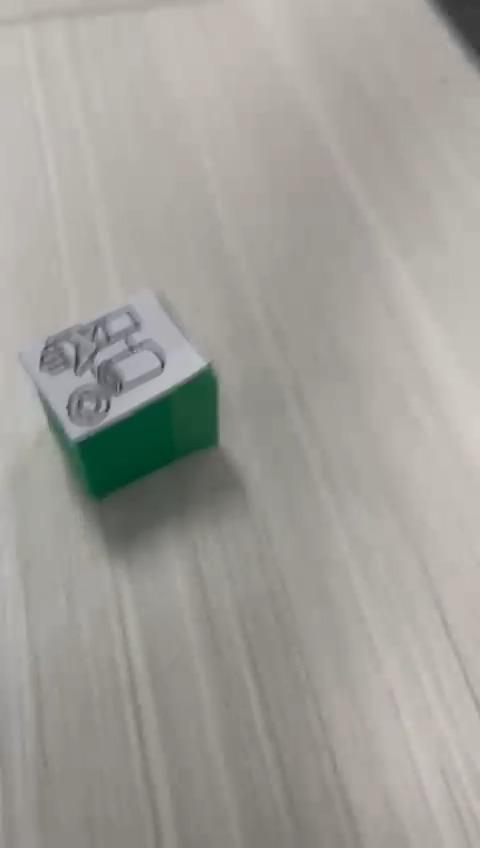Bandages: (17, 286, 219, 502)
